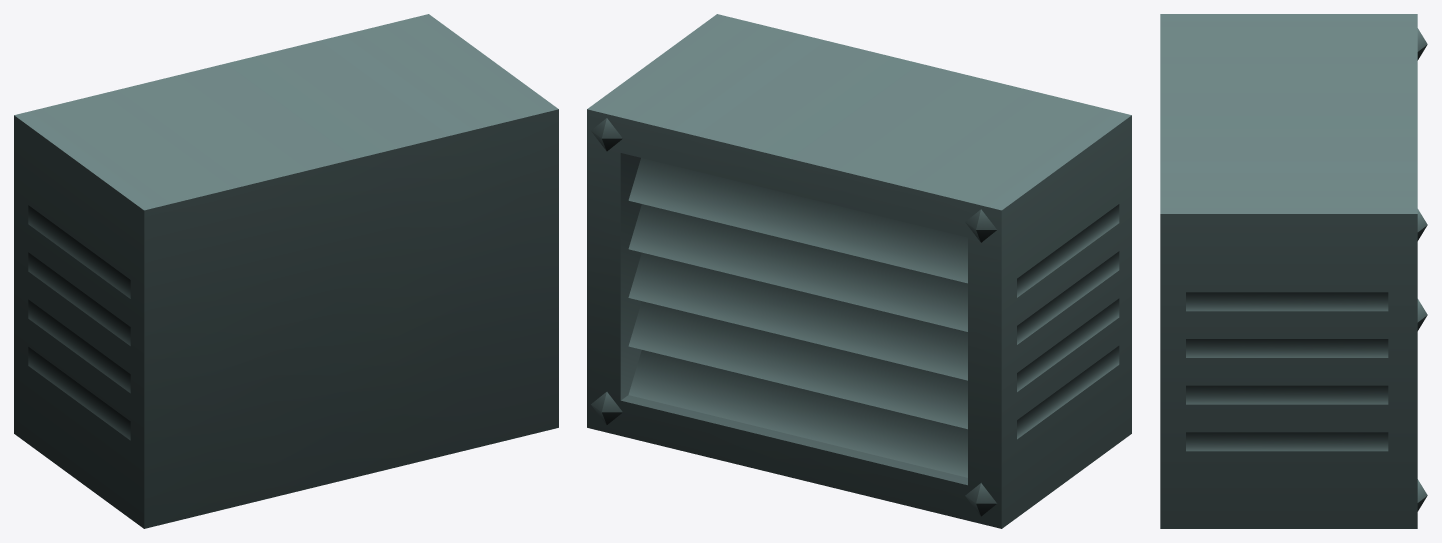
Rendered from Air_Conditioner_2A.fbx.
3 views of the same model, side by side, from view 1: azimuth 30°, elevation 25°; view 2: azimuth 150°, elevation 25°; view 3: azimuth 270°, elevation 25° (orthographic).
Visible parts, largest first — view 1: Air_Conditioner_2A; view 2: Air_Conditioner_2A; view 3: Air_Conditioner_2A.
Part boxes in pixels (left/top/right/bottom): Air_Conditioner_2A: left=14, top=14, right=558, bottom=528; Air_Conditioner_2A: left=587, top=14, right=1131, bottom=528; Air_Conditioner_2A: left=1160, top=14, right=1427, bottom=528.
Bounding box in the file's own units: 1.84 × 1.35 × 1.04.
